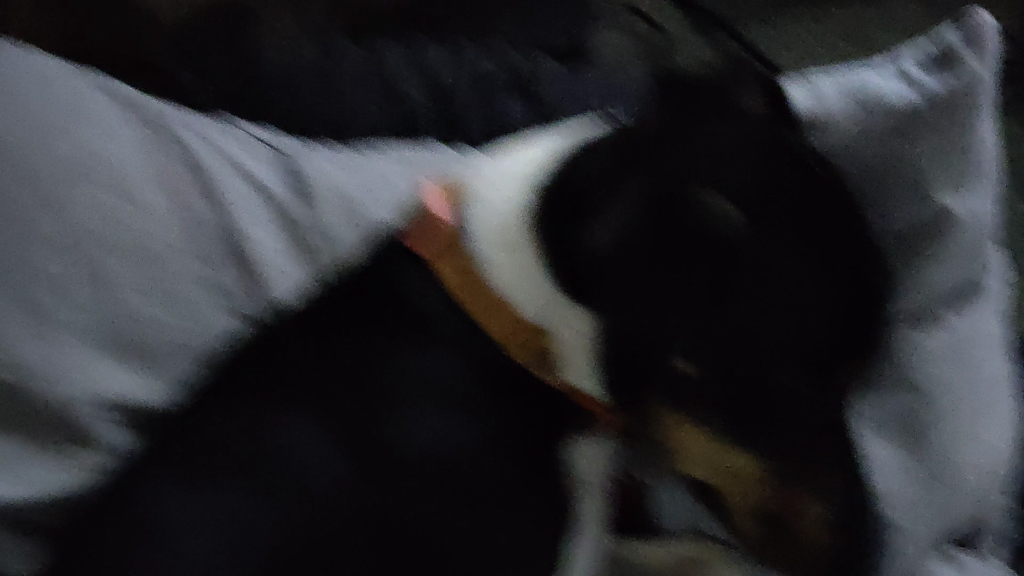Dog: (0, 36, 926, 576)
